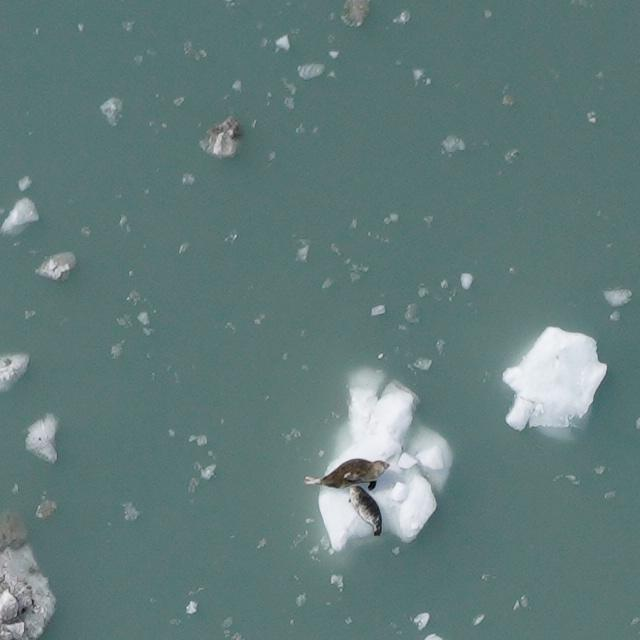seal: (303, 454, 391, 493), (342, 481, 396, 539)
